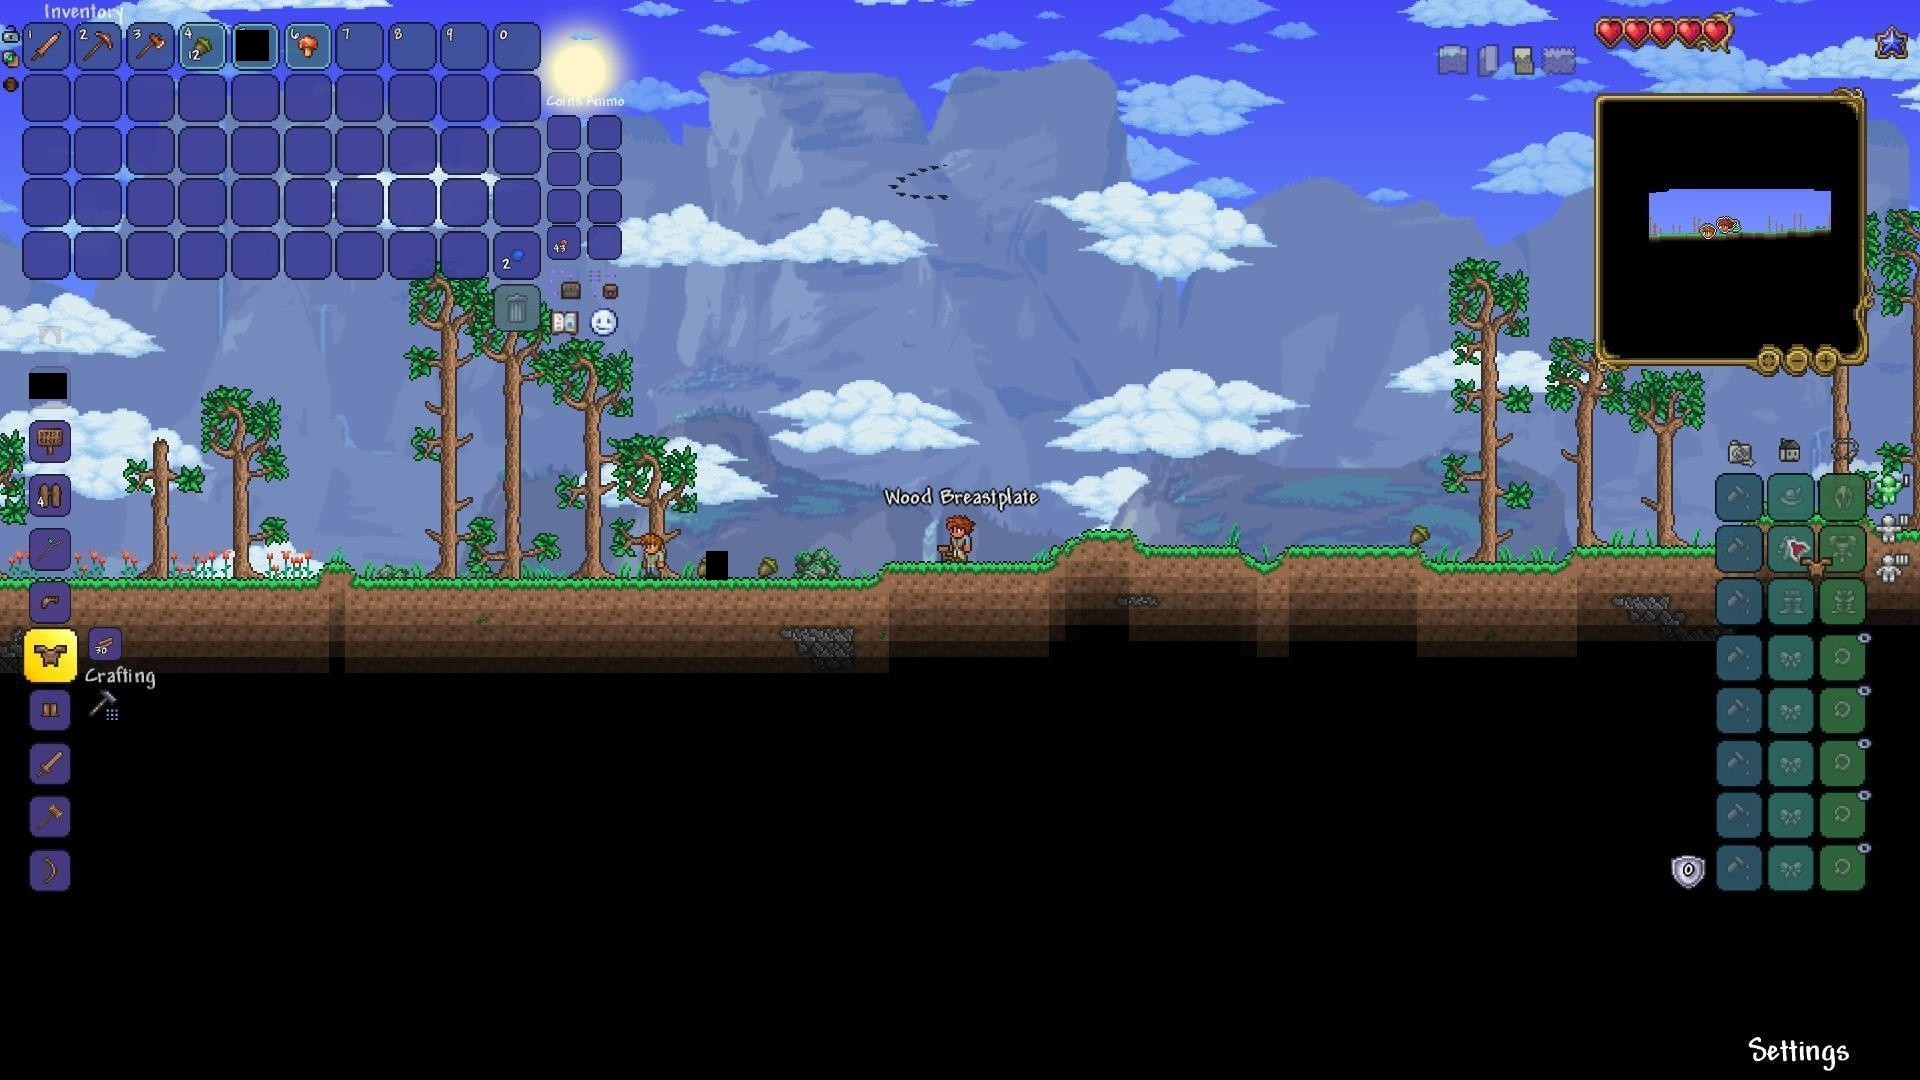breastplate: (33, 641, 67, 670), (1801, 558, 1830, 579)
helmet: (36, 588, 66, 616)
legs: (37, 695, 62, 724)
wood: (90, 630, 121, 661)
